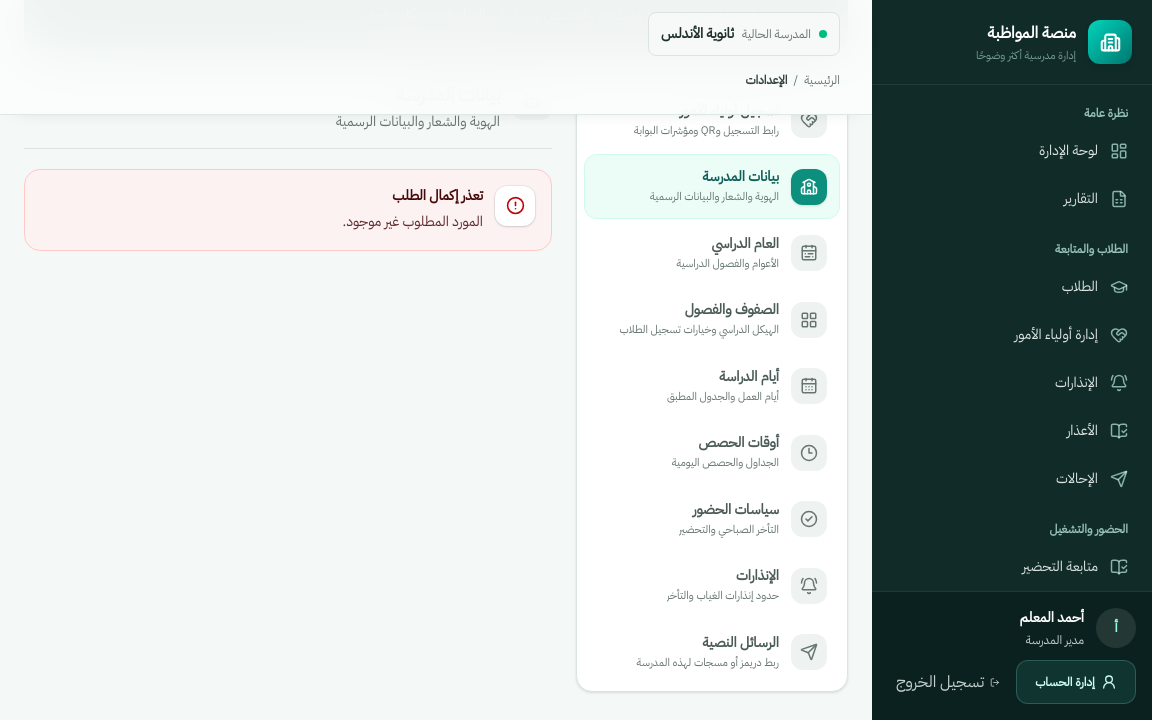
Scenario: warning rules settings (Phase 11) › blocks saving when thresholds are not ascending
(page scrolled)
Click the tab "الإنذارات حدود إنذارات الغياب والتأخر" at (712, 586), box [585,554,839,617]
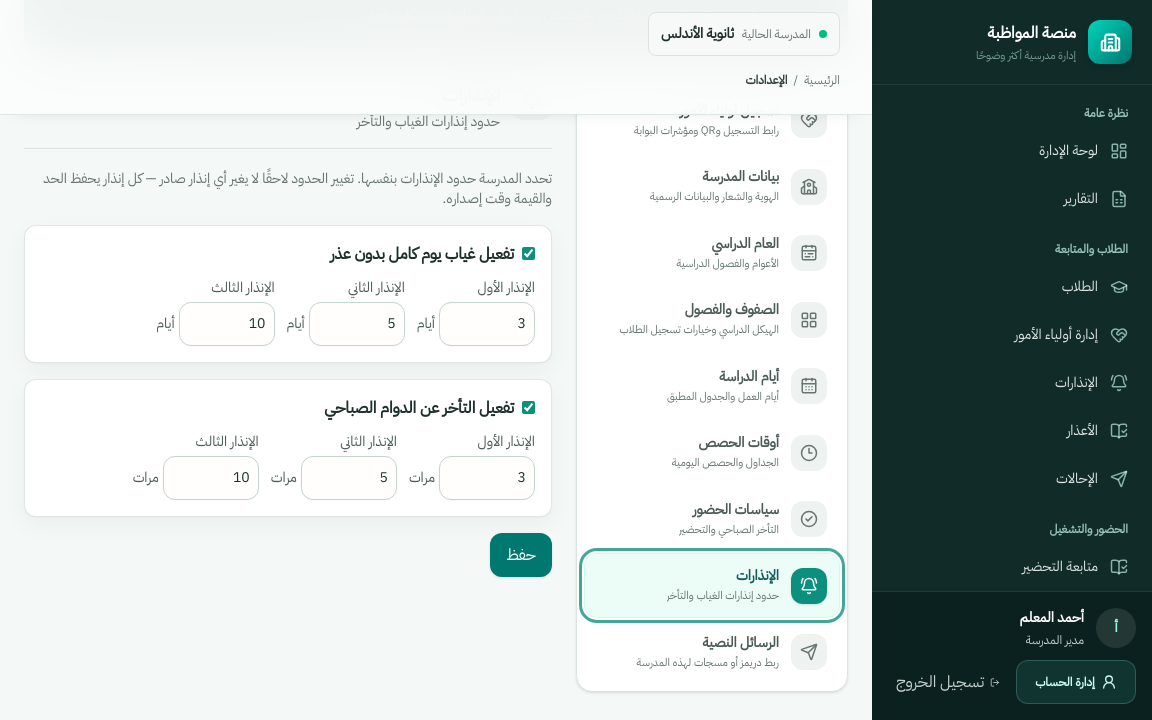
Replace the text in the number field with test id "threshold-UNEXCUSED_FULL_DAY_ABSENCE-LEVEL_1" with "9" at (487, 324), box [439,302,535,346]
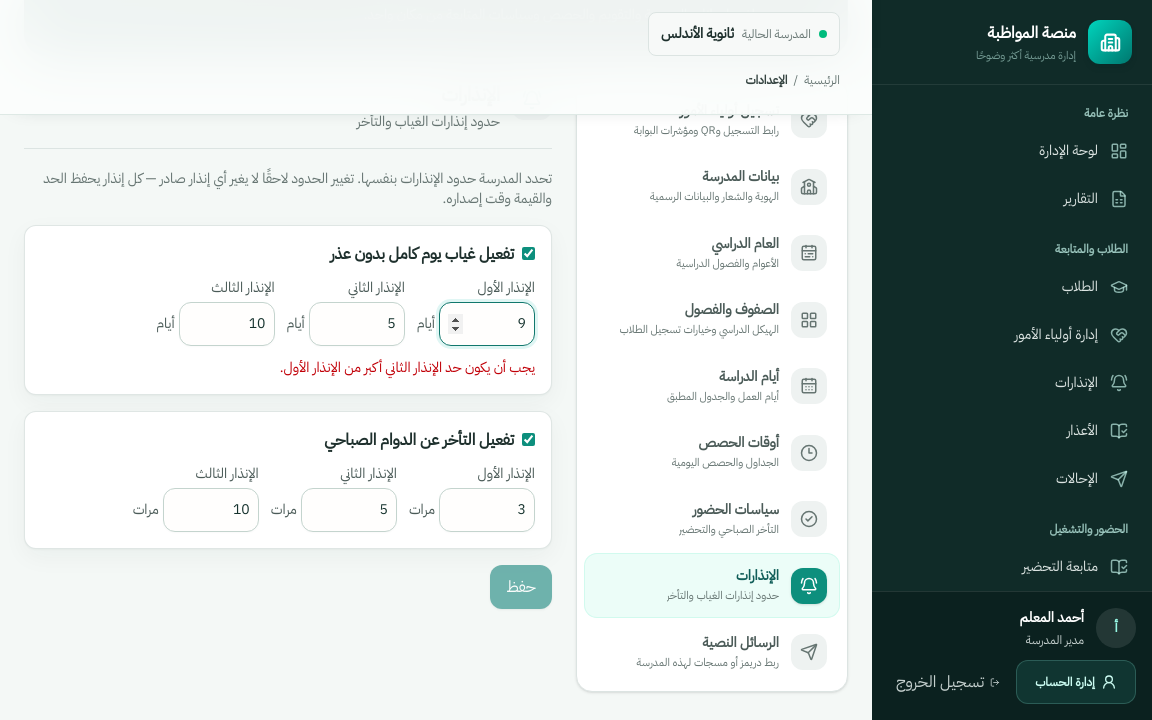
Now the message with test id "order-error-UNEXCUSED_FULL_DAY_ABSENCE" shows "أكبر من الإنذار الأول", box [280,357,535,378]
Now the button with test id "save-warning-rules" is disabled, box [490,565,552,609]
